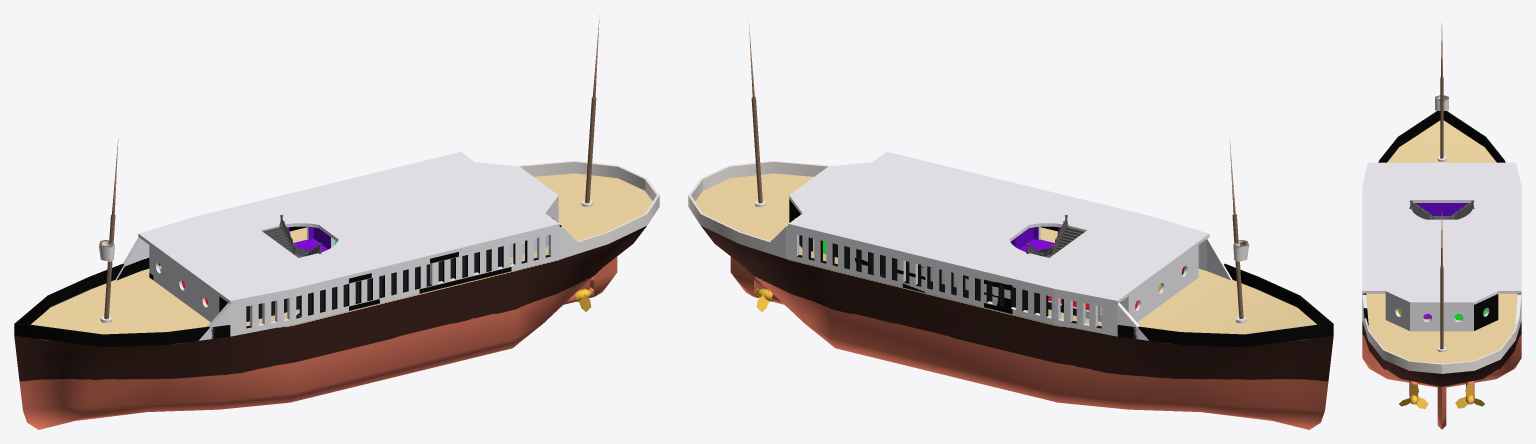
File: P_Ship.fbx
3 views of the same model, side by side, from view 1: azimuth 30°, elevation 25°; view 2: azimuth 150°, elevation 25°; view 3: azimuth 270°, elevation 25° (orthographic). The views are drawn at different scales.
Parts seen in each view (by area): view 1: Hull, SuperstructureDeck2, PRODUCTION-SuperstructureDeck1, Railing, Mast1, Mast2, Staircase; view 2: Hull, SuperstructureDeck2, PRODUCTION-SuperstructureDeck1, Railing, Mast1, Mast2, Staircase; view 3: SuperstructureDeck2, Hull, PRODUCTION-SuperstructureDeck1, Railing, Mast1, Staircase, Mast2, Rudder, PropellerRight, PropellerLeft.
Boxes of the visible parts, x1,y1,x2,y2 form: Hull: (14, 173, 652, 429); SuperstructureDeck2: (138, 152, 559, 304); PRODUCTION-SuperstructureDeck1: (115, 199, 586, 340); Railing: (14, 161, 659, 347); Mast1: (99, 134, 118, 323); Mast2: (581, 15, 599, 206); Staircase: (262, 215, 321, 257); Hull: (695, 173, 1333, 429); SuperstructureDeck2: (788, 152, 1209, 304); PRODUCTION-SuperstructureDeck1: (761, 199, 1232, 340); Railing: (688, 161, 1333, 347); Mast1: (1229, 134, 1248, 323); Mast2: (748, 20, 765, 207); Staircase: (1026, 215, 1085, 257); SuperstructureDeck2: (1362, 162, 1521, 304); Hull: (1362, 120, 1521, 395); PRODUCTION-SuperstructureDeck1: (1362, 203, 1521, 331); Railing: (1364, 111, 1519, 373); Mast1: (1435, 23, 1448, 161); Staircase: (1409, 200, 1474, 219); Mast2: (1437, 212, 1446, 352); Rudder: (1437, 386, 1446, 429); PropellerRight: (1455, 383, 1484, 408); PropellerLeft: (1399, 383, 1428, 408).
Size of the model in its own units: 6027 by 2539 by 1627.
